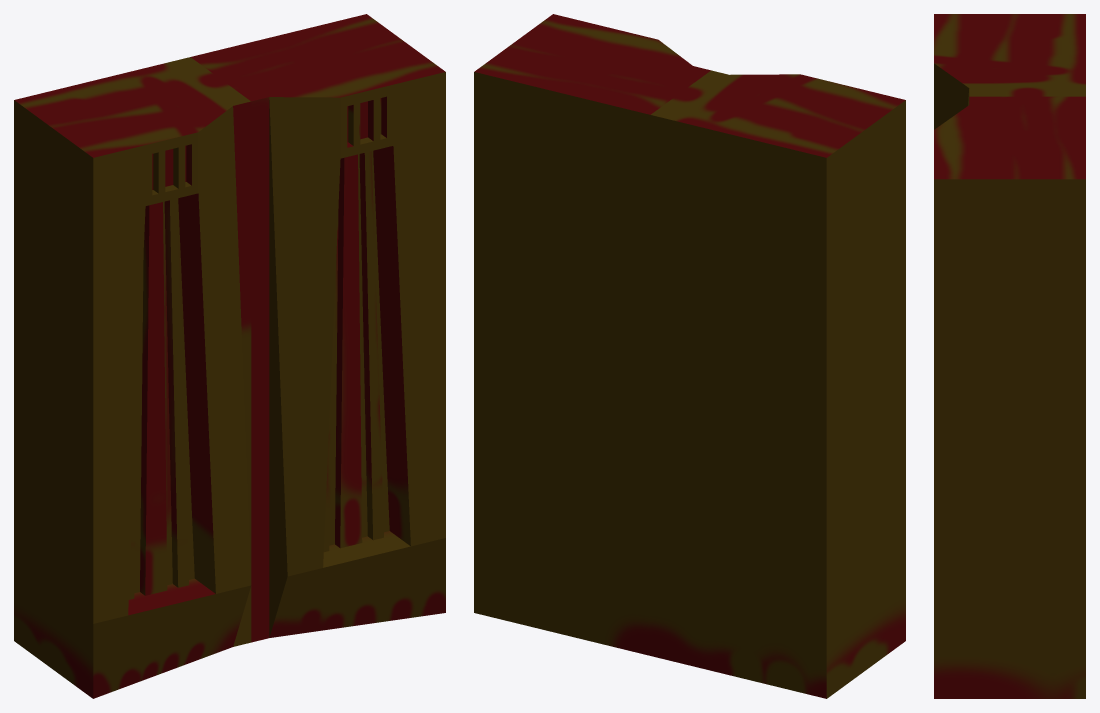
Rendered from N_Puerta.obj.
The picture shows the model from 3 angles, left to right: view 1: azimuth 30°, elevation 25°; view 2: azimuth 150°, elevation 25°; view 3: azimuth 270°, elevation 25°; orthographic projection. The views are drawn at different scales.
Parts seen in each view (by area): view 1: N_Puerta1; view 2: N_Puerta1; view 3: N_Puerta1.
Boxes of the visible parts, left/top/right/bottom form: N_Puerta1: left=14, top=14, right=445, bottom=698; N_Puerta1: left=474, top=14, right=905, bottom=698; N_Puerta1: left=934, top=14, right=1085, bottom=698.
Size of the model in its own units: 3.11 by 4.56 by 1.21.
